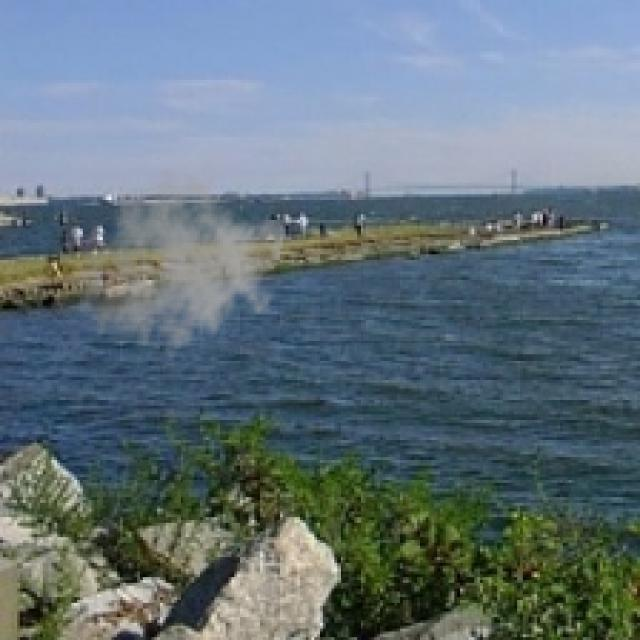Smoke: (74, 165, 289, 368)
